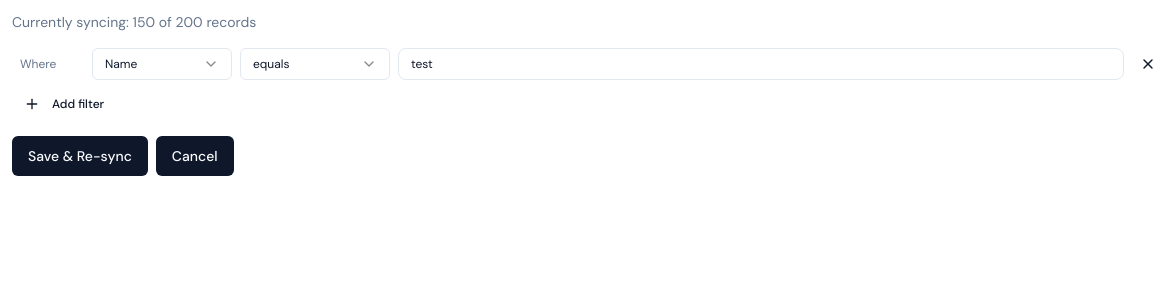
it: SyncFilterEditor › disables save when quota exceeded
Click "Add filter" to add another filter and trigger estimate
Click the button "Add filter".
click(64, 104)  # box [12,88,116,120]
Wait 600 ms
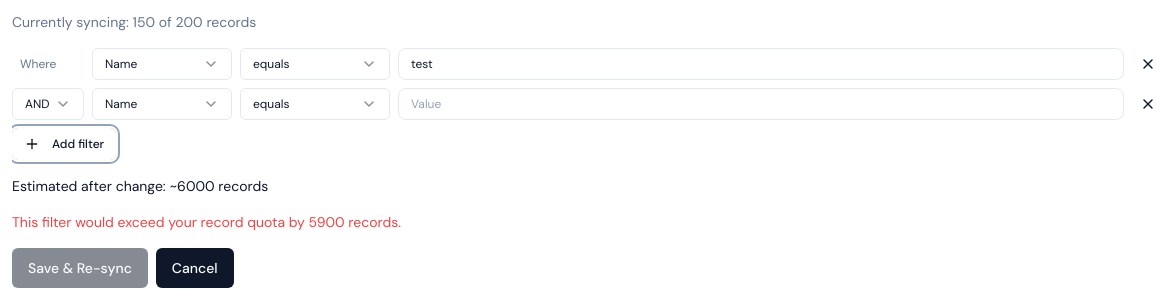
Expected: the button with test id "save-button" is disabled, [12,248,148,288]
Expected: the text "This filter would exceed your record quota by 5900 records." is shown, [12,213,401,231]
